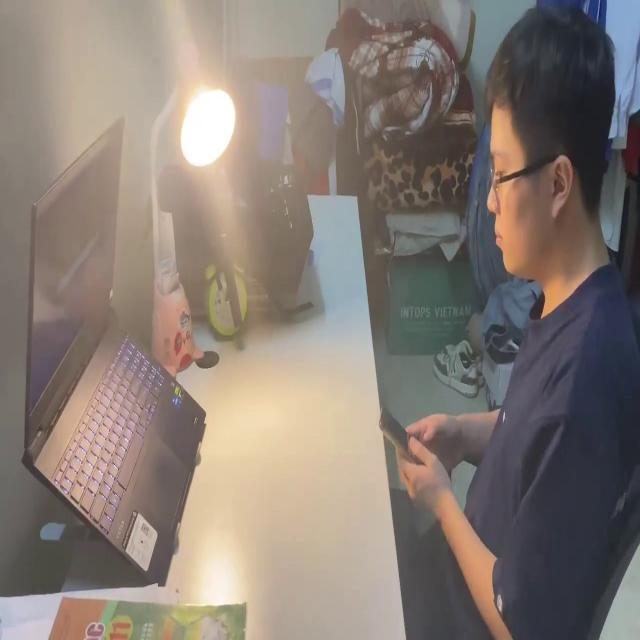book: (0, 582, 244, 640)
laptop: (16, 113, 210, 592)
phone: (377, 404, 436, 476)
student: (385, 1, 640, 640)
